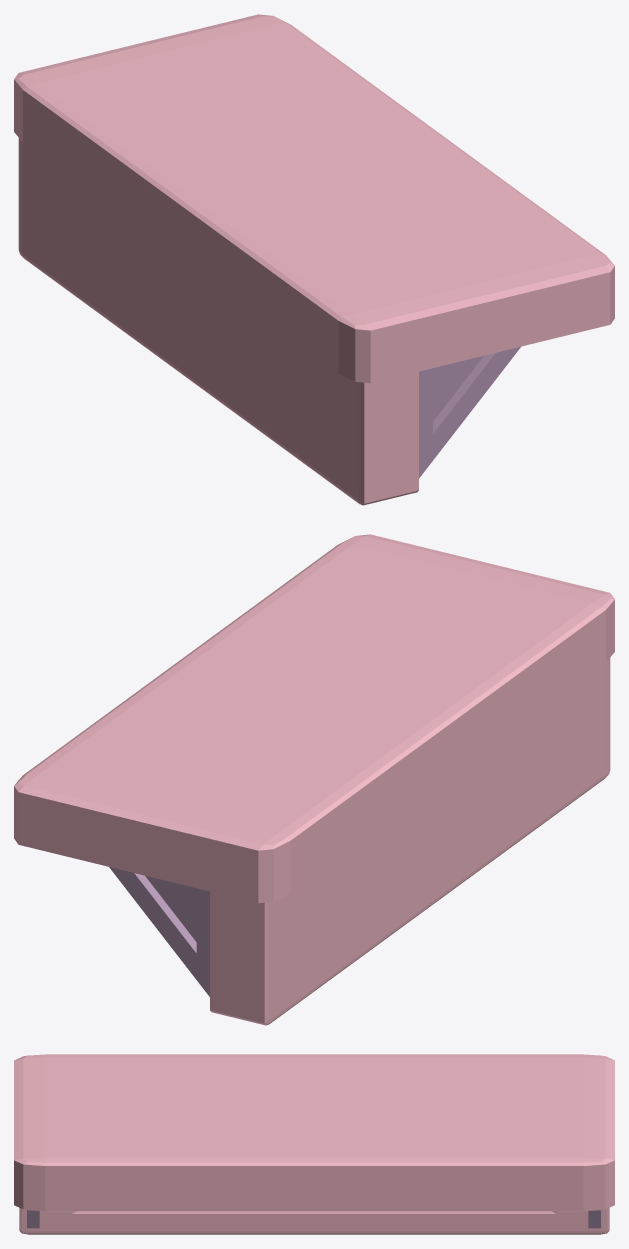
File: MugShelfPink.fbx
3 renders of one model, top to bottom at view 1: azimuth 30°, elevation 25°; view 2: azimuth 150°, elevation 25°; view 3: azimuth 270°, elevation 25°, orthographic. The views are drawn at different scales.
Parts seen in each view (by area): view 1: Cube, Cube.001; view 2: Cube, Cube.002; view 3: Cube.
Boxes of the visible parts, x1,y1,x2,y2 form: Cube: [14, 14, 614, 505]; Cube.001: [419, 346, 520, 478]; Cube: [14, 534, 614, 1025]; Cube.002: [109, 867, 209, 996]; Cube: [14, 1054, 614, 1234].
Bounding box in the file's own units: 554 × 359 × 1261.
